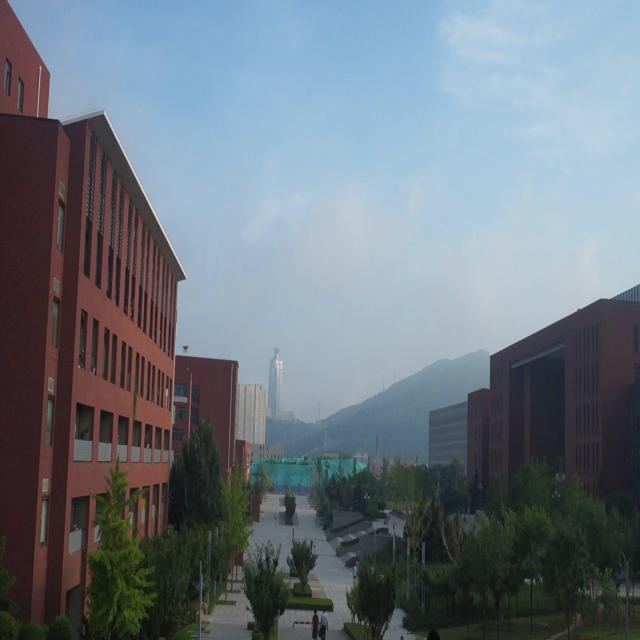drone: (180, 341, 191, 352)
